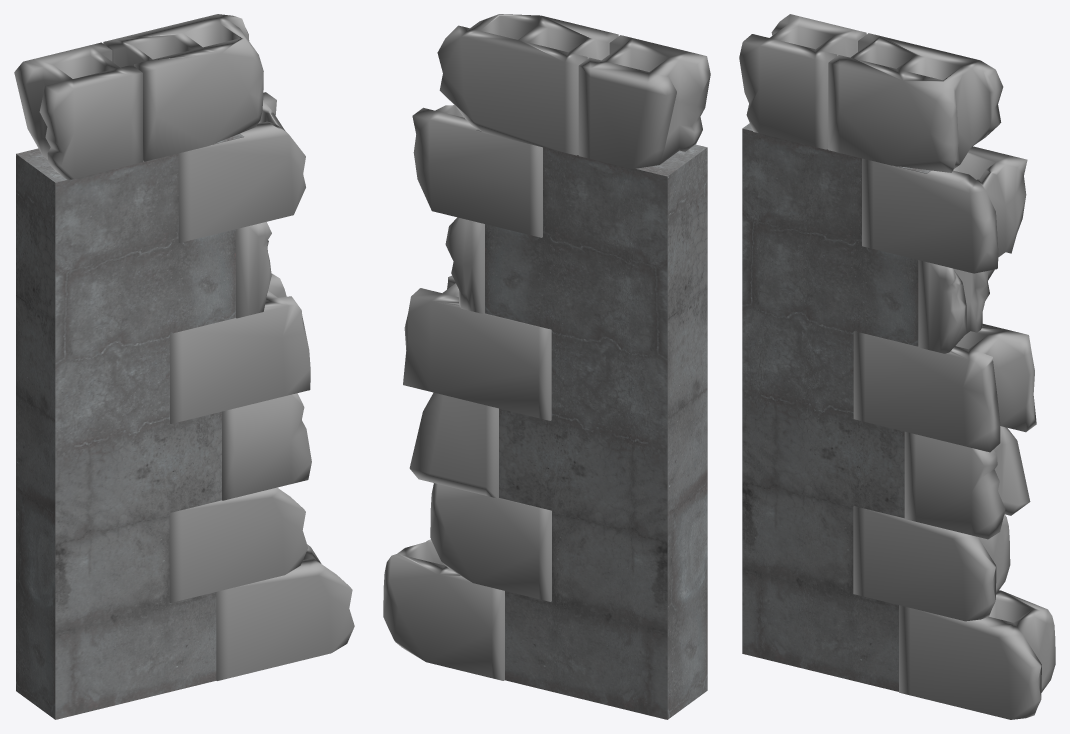
The model's file is wall_Full_1m_Broken_02.fbx.
The picture shows the model from 3 angles, left to right: view 1: azimuth 30°, elevation 25°; view 2: azimuth 150°, elevation 25°; view 3: azimuth 330°, elevation 25°; orthographic projection. The views are drawn at different scales.
Visible parts, largest first — view 1: wall_Full_1m_Broken_02; view 2: wall_Full_1m_Broken_02; view 3: wall_Full_1m_Broken_02.
Part boxes in pixels (x1,y1,x2,y2): wall_Full_1m_Broken_02: (14,14,354,719); wall_Full_1m_Broken_02: (383,14,710,719); wall_Full_1m_Broken_02: (739,14,1055,719).
Bounding box in the file's own units: 89.4 × 175 × 20.94.
